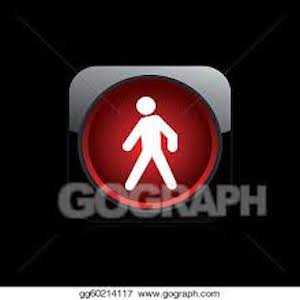red: (122, 91, 188, 196)
